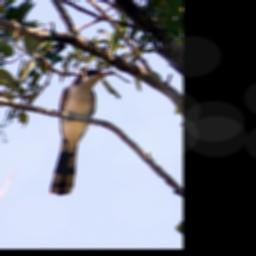Cuckoo: (47, 68, 114, 198)
